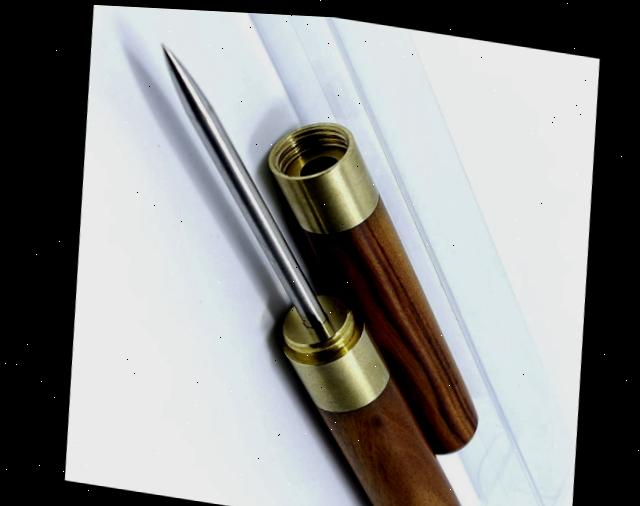ice pick: (110, 38, 526, 506), (234, 109, 504, 458)
